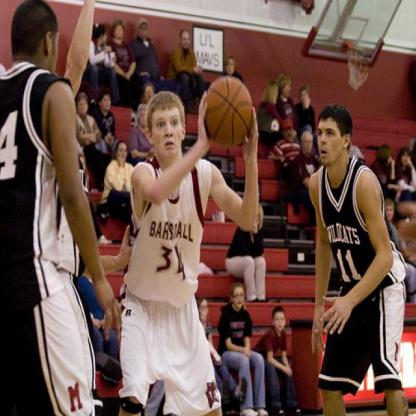basketball: (202, 73, 254, 149)
rim: (346, 49, 371, 75)
